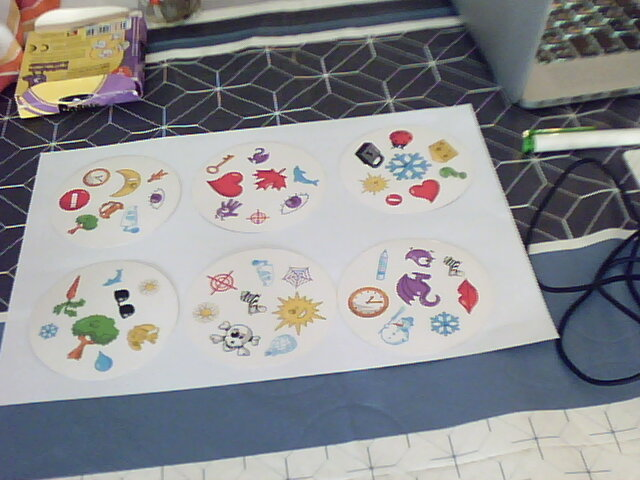arbre: (69, 314, 119, 356), (63, 214, 104, 241)
bonhomme: (146, 167, 169, 183)
bonhomme_neige: (377, 302, 419, 346)
bouche: (456, 276, 479, 314)
cadenas: (352, 138, 385, 170)
carotte: (51, 276, 90, 317)
chien: (122, 320, 174, 361)
cible: (202, 268, 240, 295), (244, 207, 272, 227)
cle: (204, 150, 236, 176)
coccinelle: (383, 127, 416, 151)
coeur: (204, 169, 243, 199), (407, 176, 441, 204)
crayon: (372, 248, 392, 283)
dauphin: (287, 160, 321, 190), (100, 265, 128, 295)
dooble: (211, 198, 242, 222)
dragon: (389, 271, 443, 311), (245, 145, 273, 168)
fantome: (118, 206, 150, 249), (248, 255, 277, 293)
feuille: (248, 166, 293, 194), (249, 165, 290, 193)
fleur: (191, 300, 222, 324), (134, 280, 159, 300)
flocon: (385, 151, 433, 183), (428, 310, 463, 339), (39, 320, 59, 345)
fromage: (426, 137, 461, 165)
goutte: (90, 348, 116, 374)
horloge: (341, 284, 390, 319), (80, 165, 111, 189)
igloo: (263, 333, 300, 357)
lune: (108, 167, 144, 198)
lunette: (108, 289, 140, 318)
oeuil: (277, 191, 311, 218), (145, 187, 170, 210)
oiseau: (401, 242, 439, 269)
point_exclamation: (433, 163, 469, 186)
sens_interdit: (49, 185, 96, 210), (381, 191, 402, 207)
soleil: (269, 290, 329, 332), (356, 169, 393, 197)
tete_mort: (206, 316, 263, 358)
toile: (280, 259, 318, 292)
voiture: (96, 198, 126, 221)
zebre: (235, 285, 268, 319), (441, 251, 467, 279)
